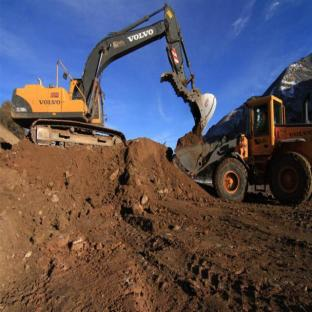ExcavationMachinery: (7, 3, 214, 144)
Vehicle: (220, 105, 312, 203)
